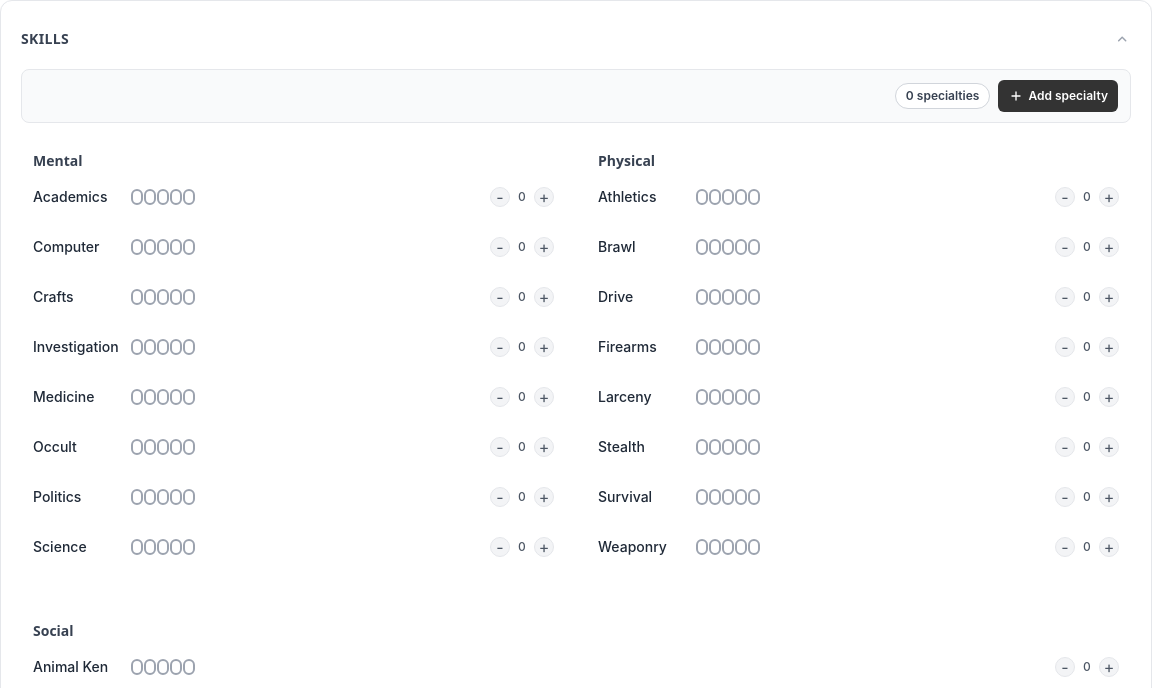
skill specialties › adds, persists and removes a normalized specialty without mutating initial data
Click the button "Add specialty" at [1058, 96], box x1=998 y1=80 x2=1118 y2=112
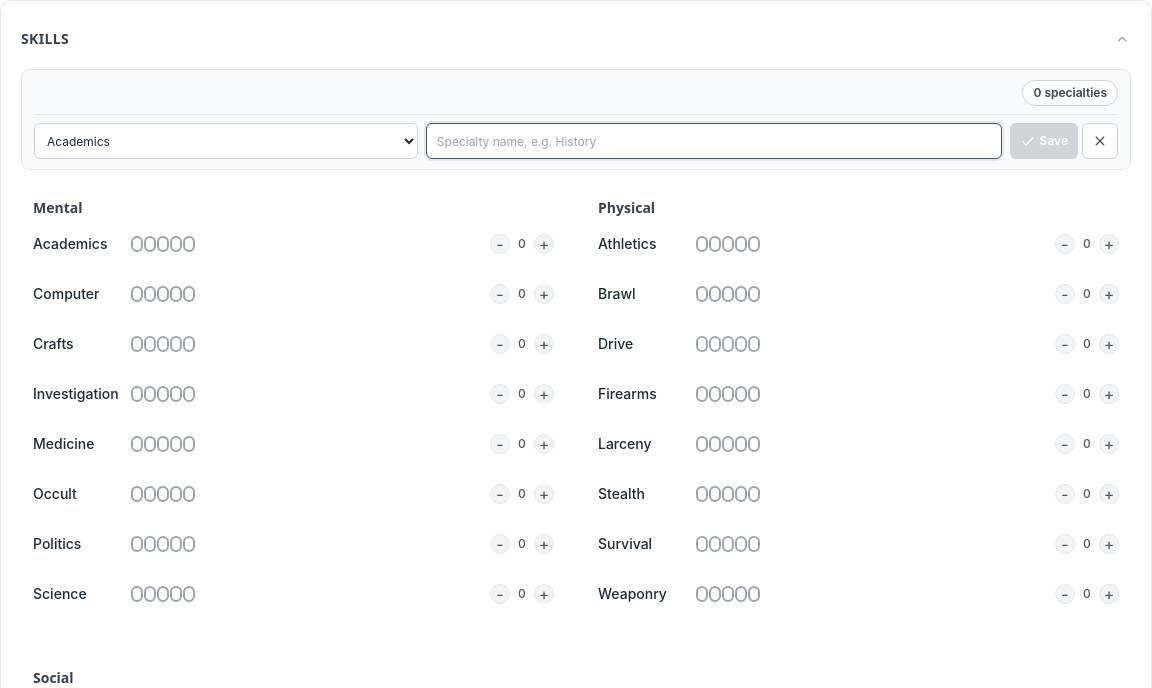
Type "  Field   Research  " into the field labelled "Specialty name" at [714, 141], box x1=426 y1=123 x2=1002 y2=159
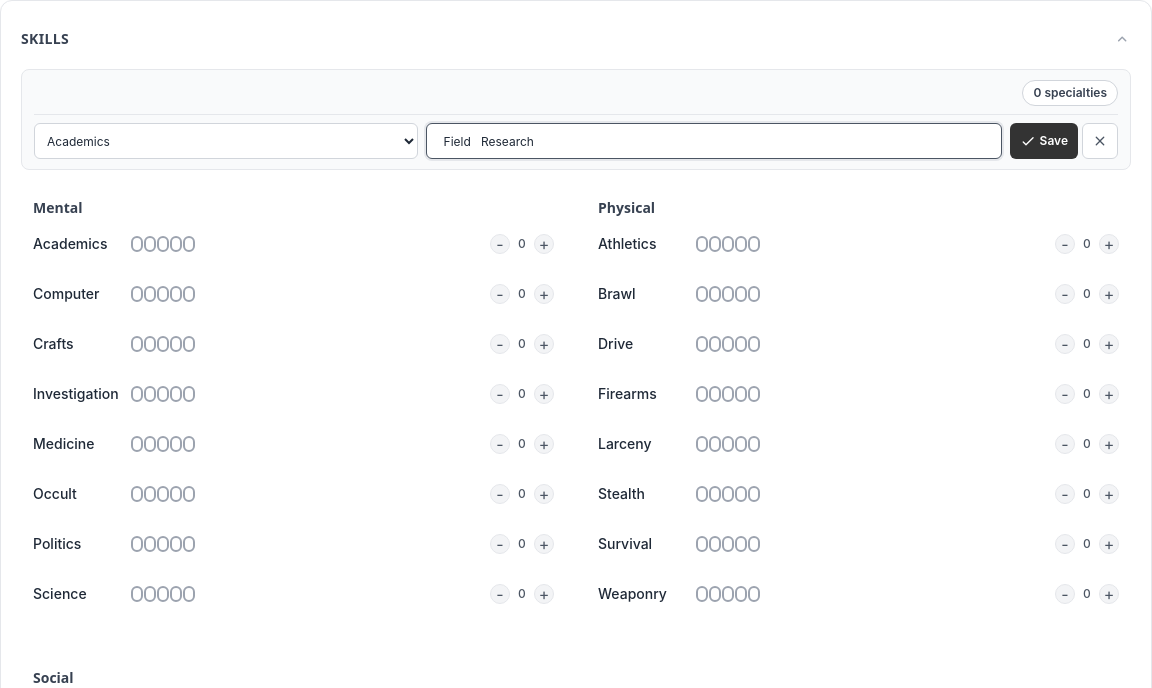
Click the button with aria-label "Save specialty" at [1044, 141], box x1=1010 y1=123 x2=1078 y2=159
Wait 400 ms
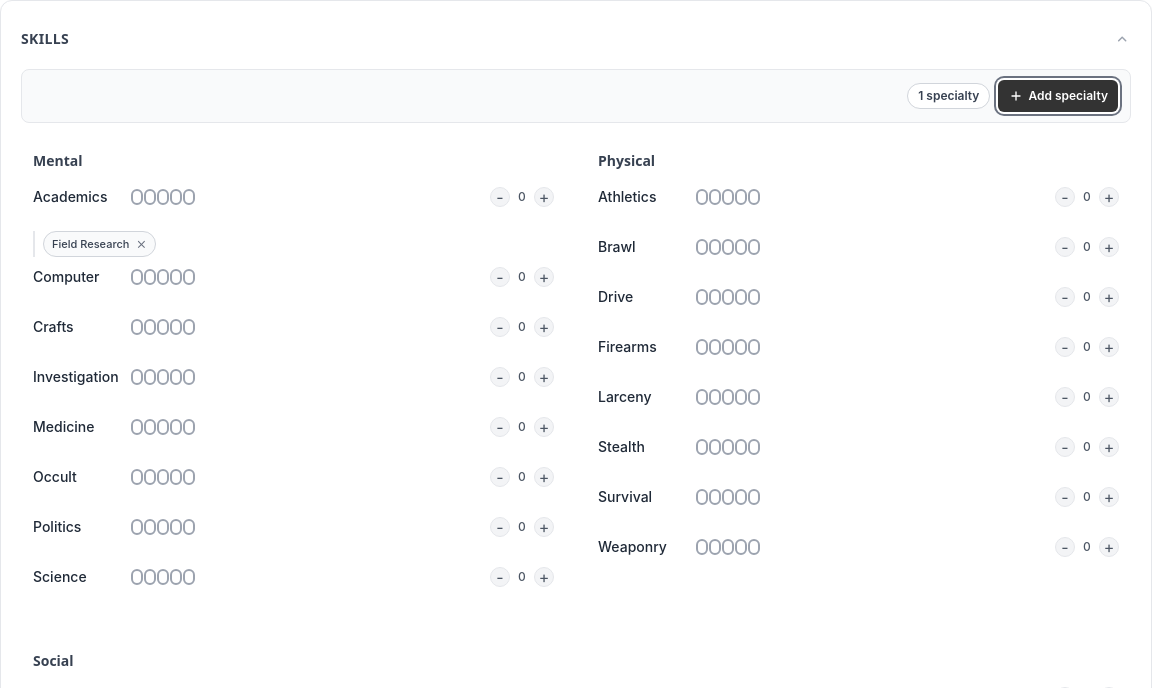
Expected: the text "Field Research" is shown, x1=52 y1=236 x2=129 y2=252
Expected: the text "1 specialty" is shown, x1=907 y1=83 x2=990 y2=109
Click the button named "Remove Field Research specialty from Academics" at [141, 244], box x1=131 y1=234 x2=151 y2=254
Wait 400 ms
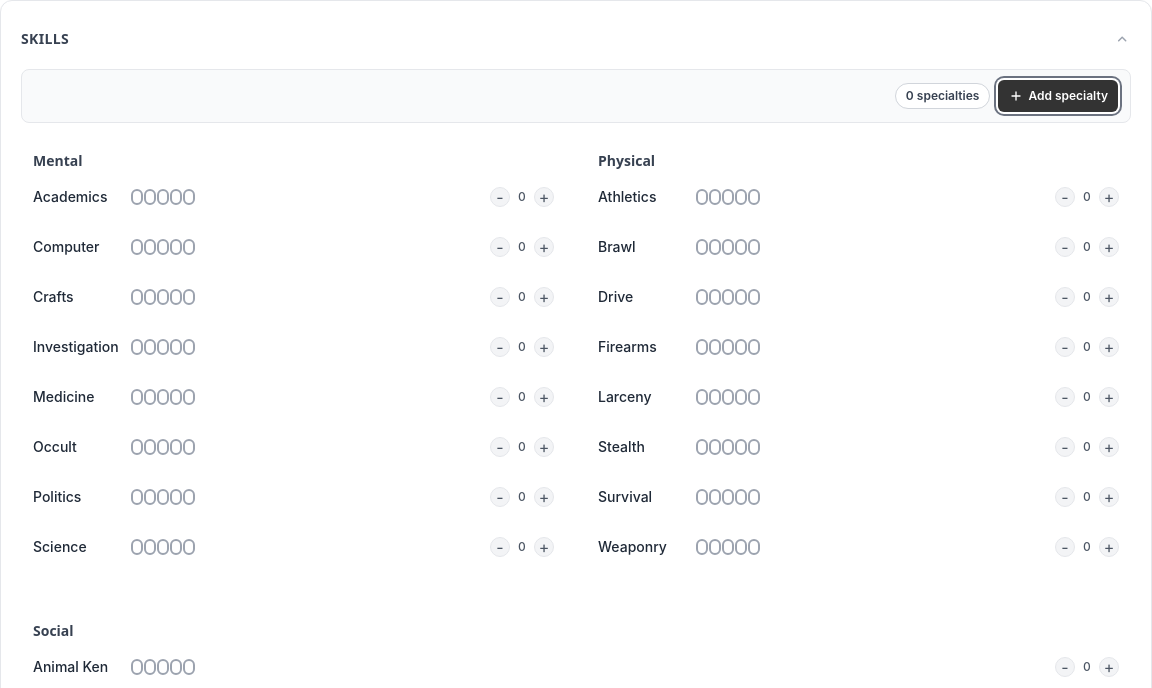
Expected: the text "Field Research" is gone
